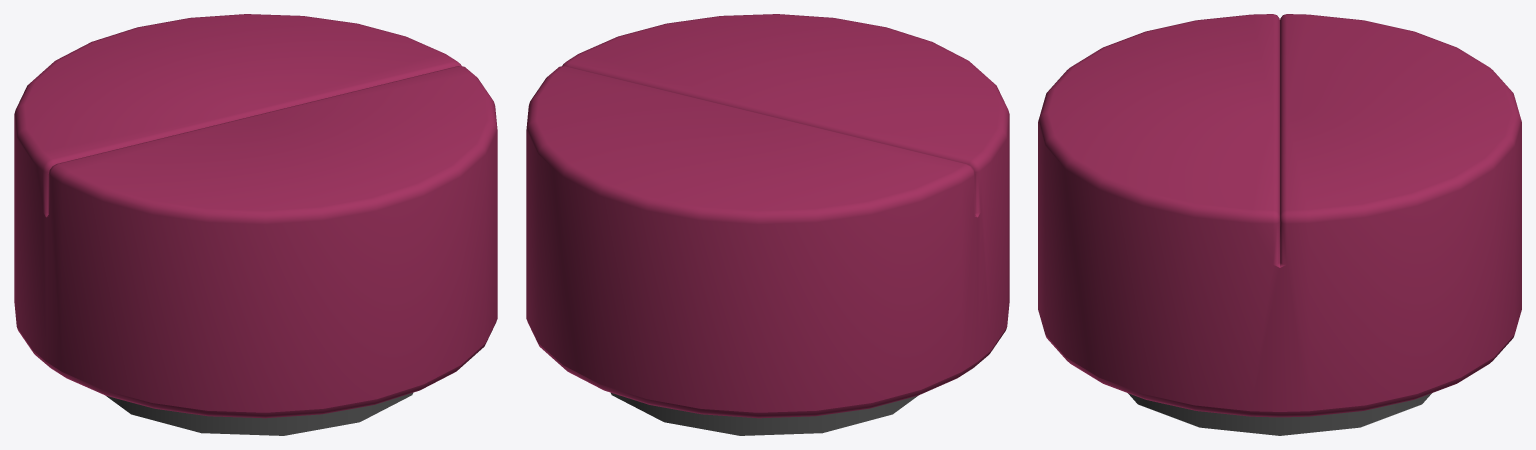
File: movie-ympyra-tuoli.fbx
The picture shows the model from 3 angles, left to right: view 1: azimuth 30°, elevation 25°; view 2: azimuth 150°, elevation 25°; view 3: azimuth 270°, elevation 25°; orthographic projection.
Parts seen in each view (by area): view 1: BenchTop, BenchBase; view 2: BenchTop, BenchBase; view 3: BenchTop, BenchBase.
Part boxes in pixels (bbox=[...]): BenchTop: bbox=[14, 14, 497, 418]; BenchBase: bbox=[106, 393, 412, 435]; BenchTop: bbox=[526, 14, 1009, 418]; BenchBase: bbox=[611, 393, 917, 435]; BenchTop: bbox=[1038, 14, 1521, 417]; BenchBase: bbox=[1128, 393, 1431, 435].
Bounding box in the file's own units: 350 × 200 × 350.
